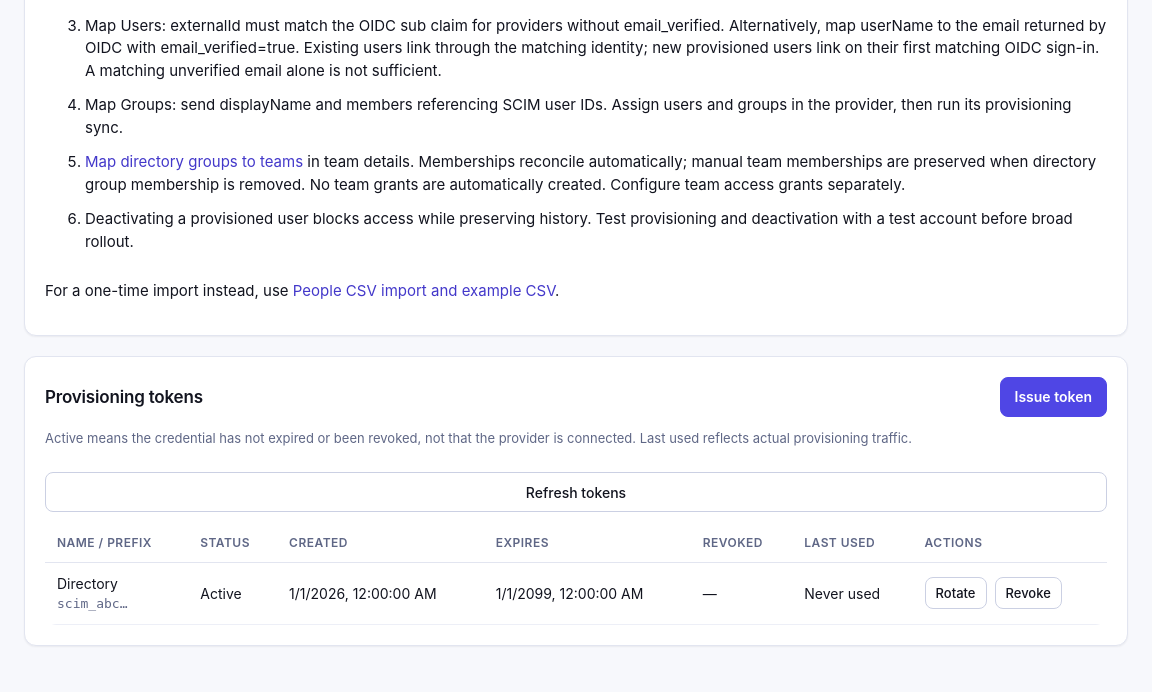
Test case: SCIM provisioning setup › shows refresh errors instead of silently presenting stale token data
(page scrolled)
Expected: the text "Directory" is shown, [57, 575, 118, 592]
Step 1. Click the button "Refresh tokens" → (576, 492), box [45, 472, 1107, 512]
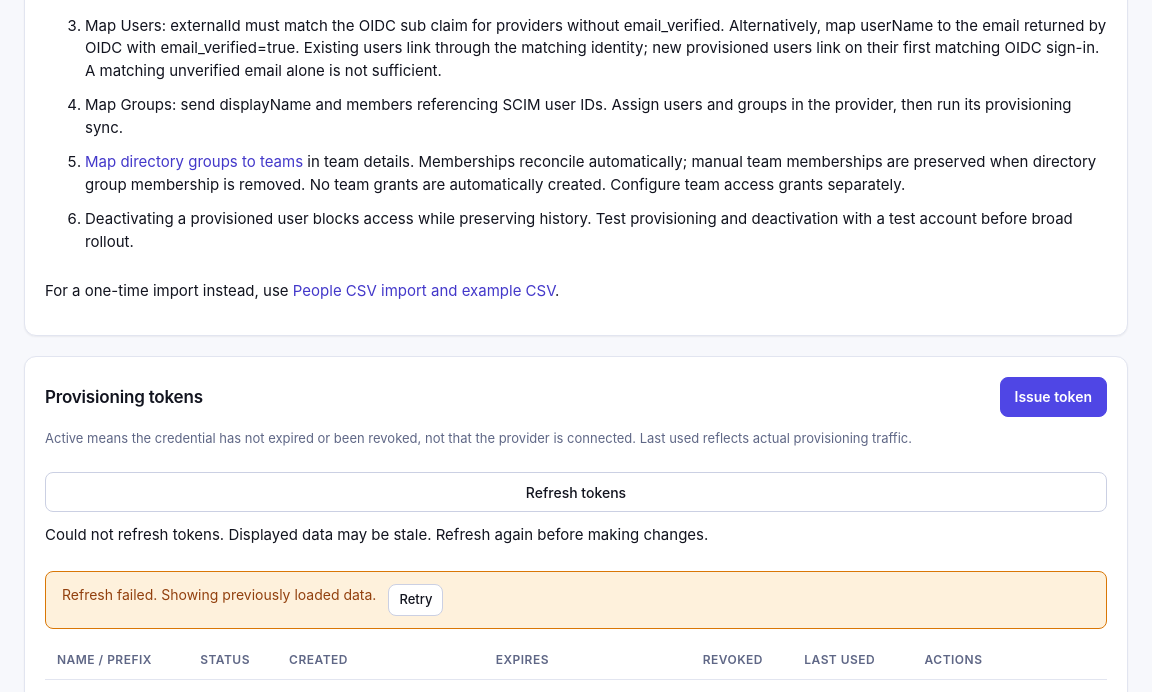
Now the text "Could not refresh tokens" is shown, box [45, 525, 708, 544]
